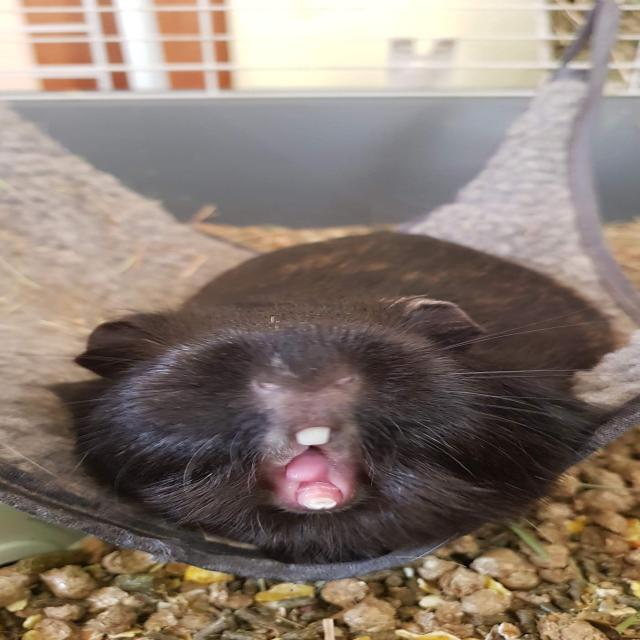guinea pig: (68, 229, 622, 563)
